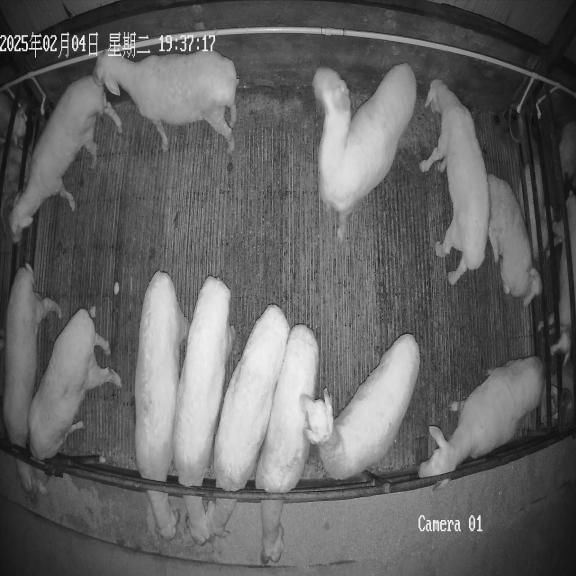eating: (205, 305, 290, 536), (28, 307, 122, 493), (173, 276, 235, 544), (255, 325, 319, 565), (134, 271, 189, 539), (2, 264, 62, 492)
lying: (488, 174, 541, 307)
stand: (9, 73, 122, 243), (312, 64, 416, 239), (300, 334, 420, 479), (418, 356, 545, 478), (94, 50, 237, 152), (420, 80, 489, 285)
